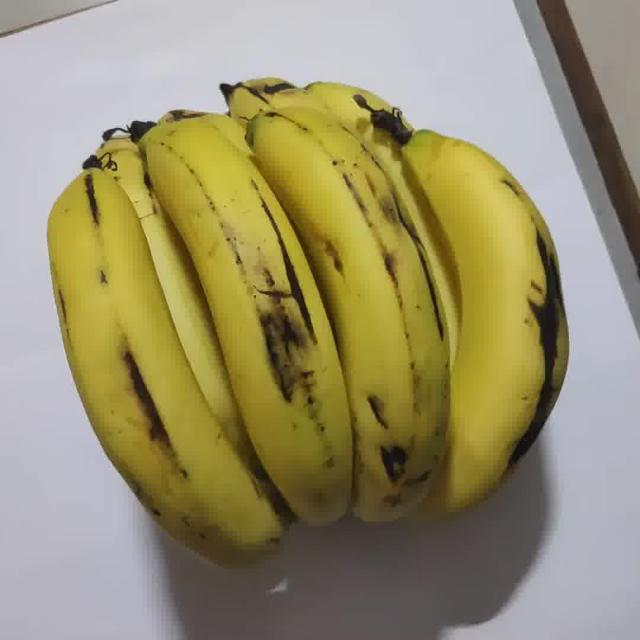banana_pacche: (10, 12, 575, 618)
